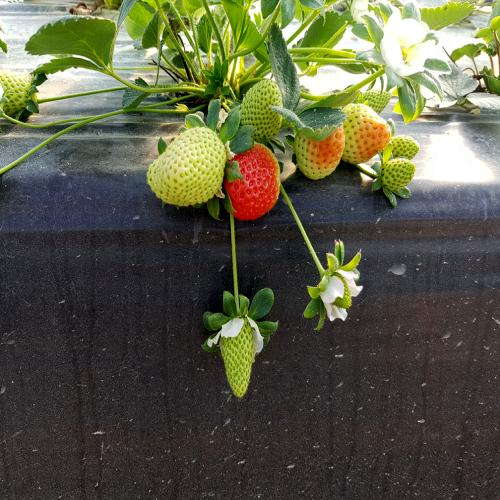unripe: (145, 113, 224, 220), (212, 311, 260, 406)
